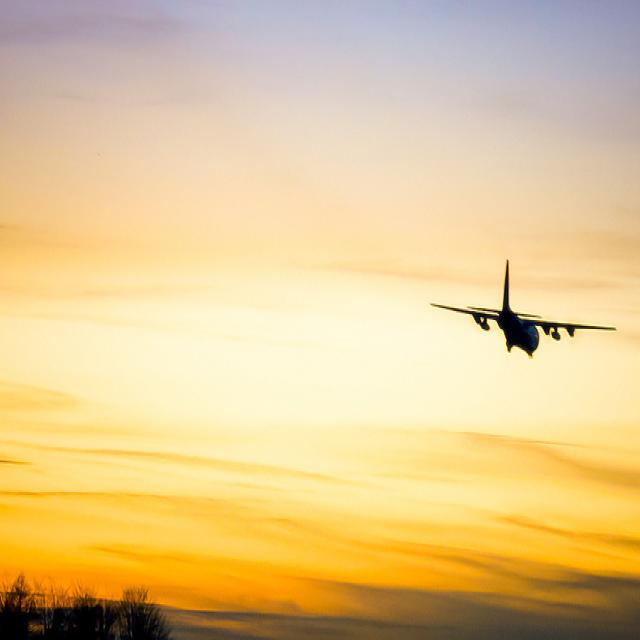airplane: (428, 258, 618, 360)
